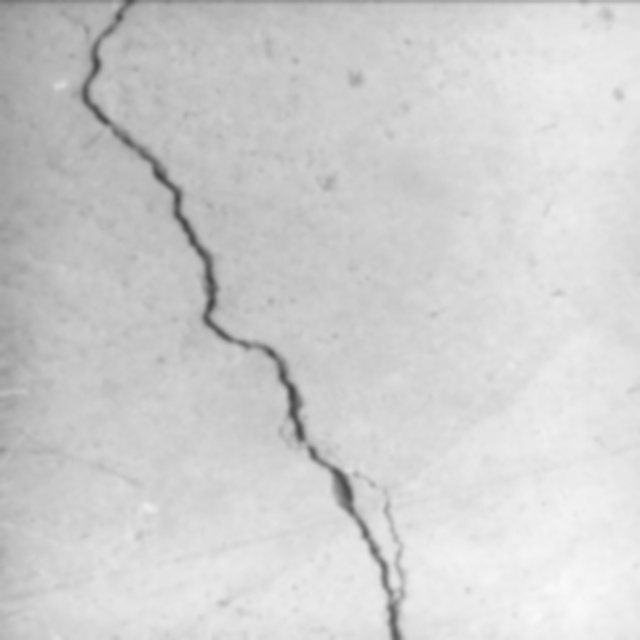SurfaceCrack: (13, 0, 496, 639)
